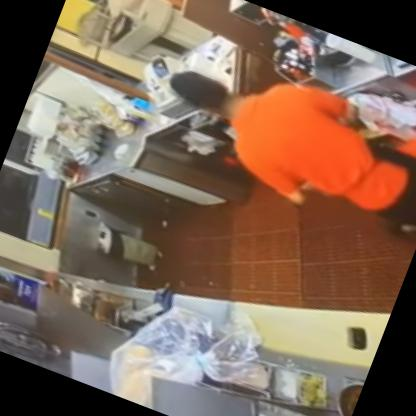Human Body: (137, 27, 415, 256)
